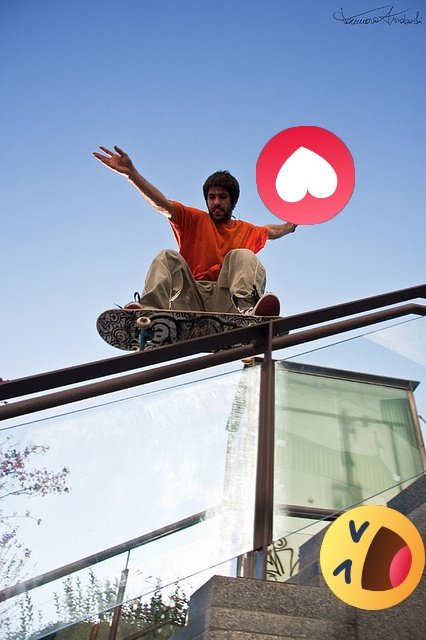haha: (320, 505, 425, 610)
love: (256, 126, 355, 225)
